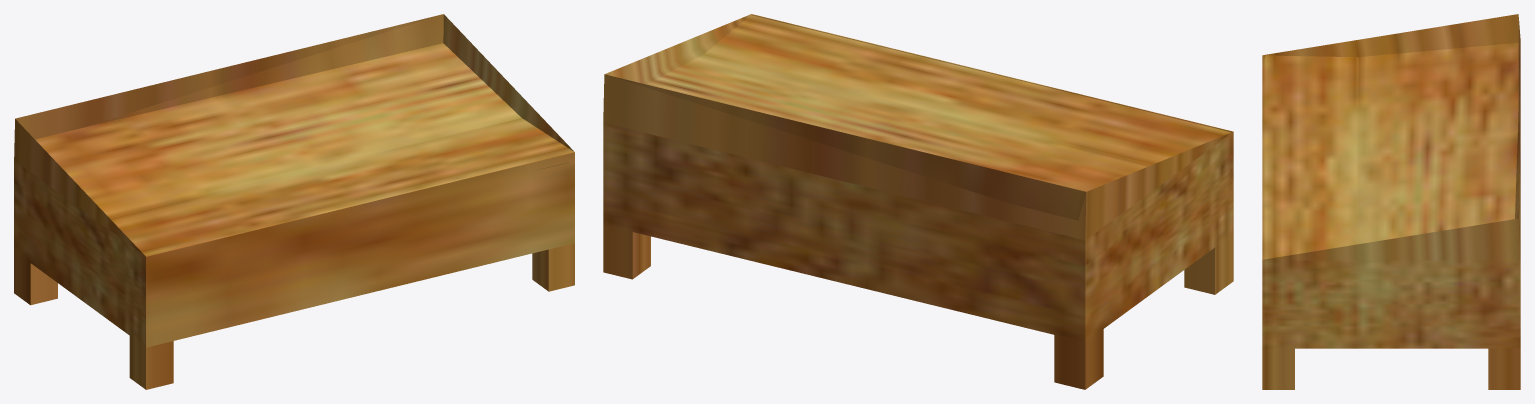
The model's file is Gruit Stand.fbx.
3 renders of one model, left to right at view 1: azimuth 30°, elevation 25°; view 2: azimuth 150°, elevation 25°; view 3: azimuth 270°, elevation 25°, orthographic. The views are drawn at different scales.
Visible parts, largest first — view 1: Cube; view 2: Cube; view 3: Cube.
Part boxes in pixels (box(x1,y1,x2,y2)): Cube: box(14, 14, 574, 389); Cube: box(603, 14, 1233, 389); Cube: box(1262, 14, 1520, 389).
Size of the model in its own units: 988 by 386 by 528.
